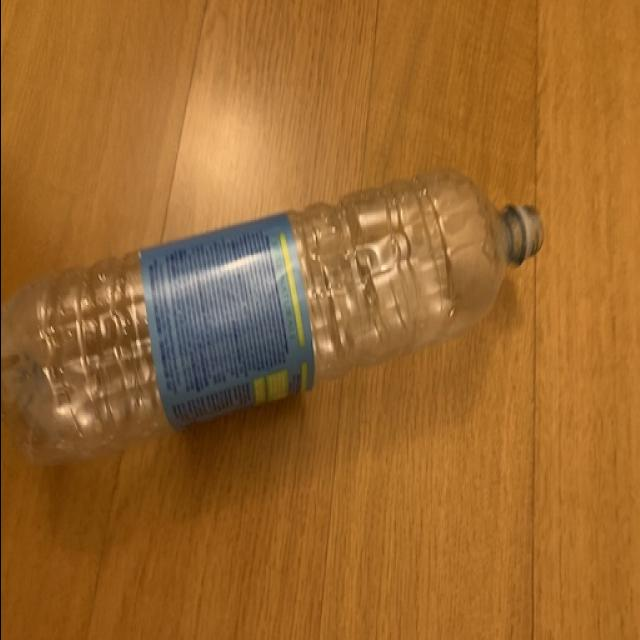litter: (0, 168, 546, 472)
